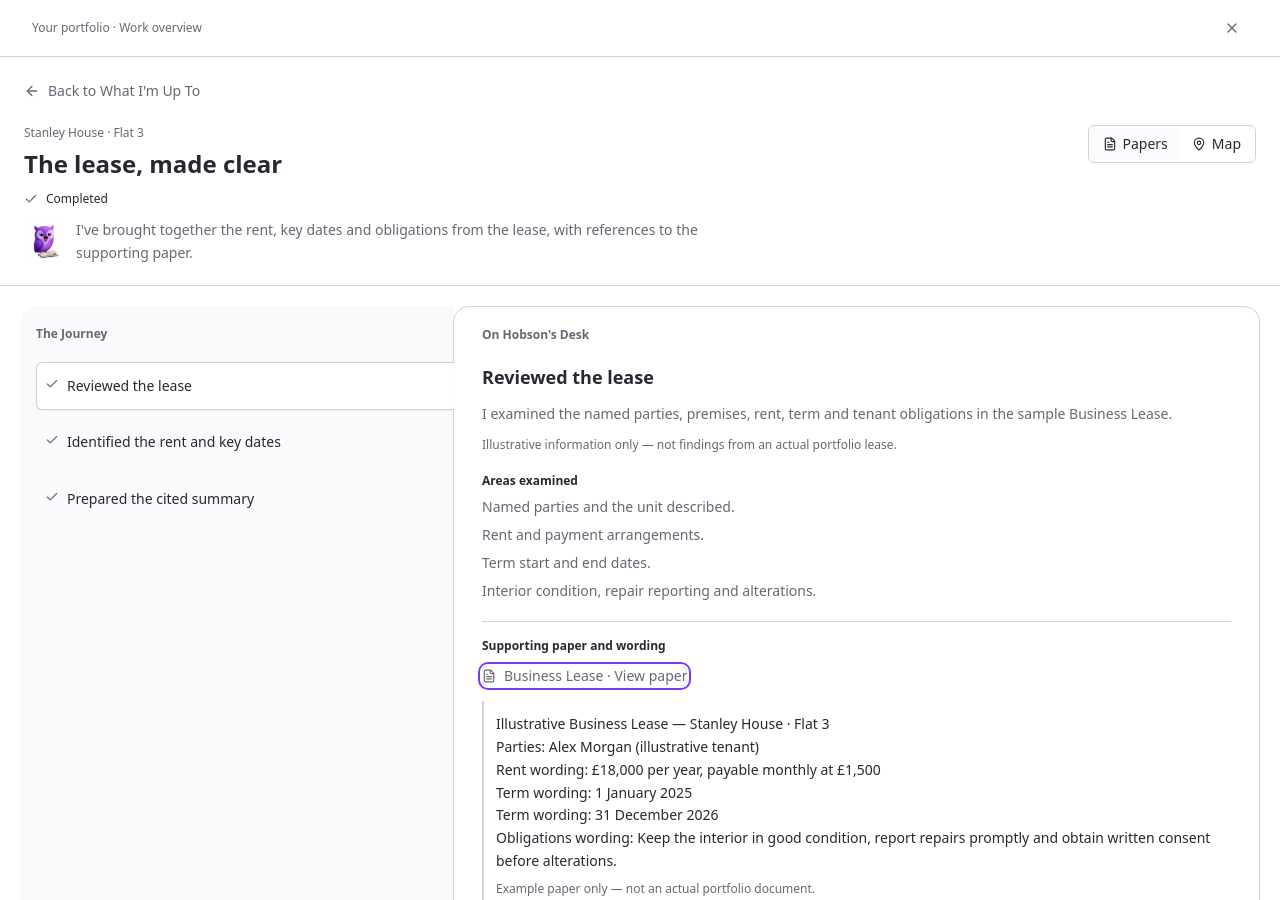
Test: Completed Flat 3 lease exploration › keeps the original three accomplishments and never starts or mutates work when explored
The image size is (1280, 900).
Earlier steps of the test are not shown.
Expected: the element named "Flat 3 Business Lease illustrative preview" is shown, [482, 701, 1231, 899]
Click the button "Identified the rent and key dates": (237, 443) [36, 418, 438, 467]
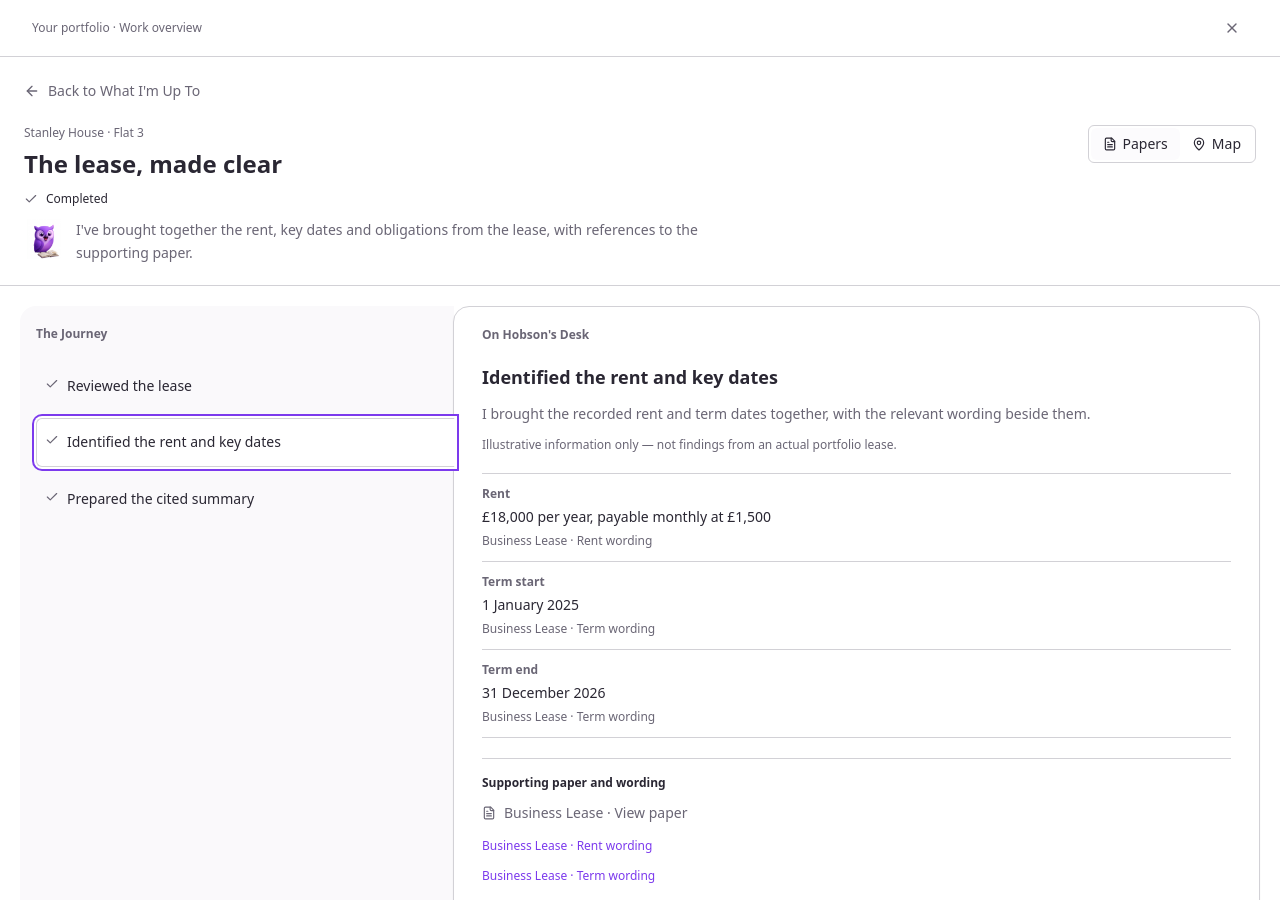
Click the button "Business Lease · Rent wording": (567, 846) [482, 838, 652, 854]
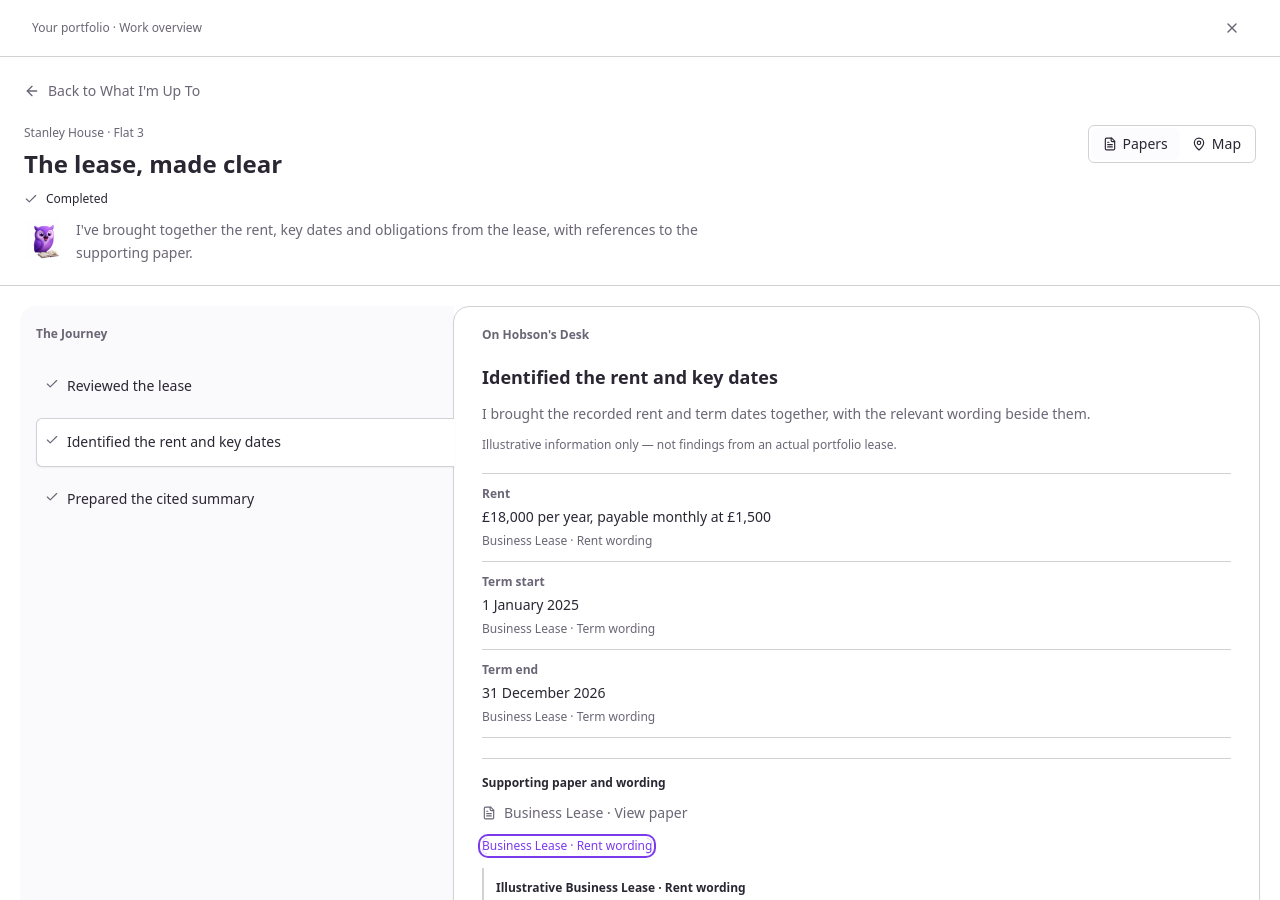
Click the button "Prepared the cited summary": (237, 499) [36, 475, 438, 524]
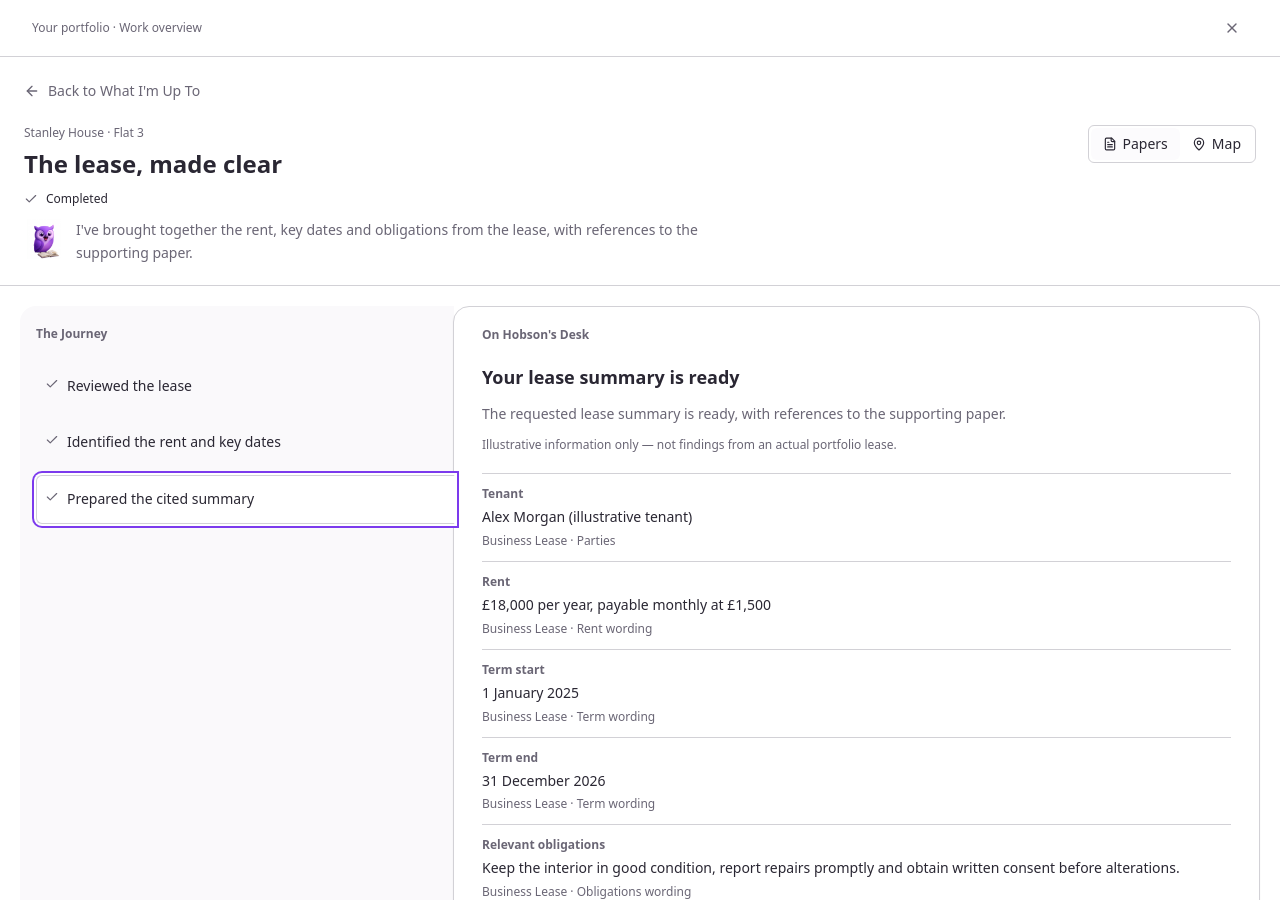
Click the button "Map": (1216, 144) [1180, 128, 1253, 160]
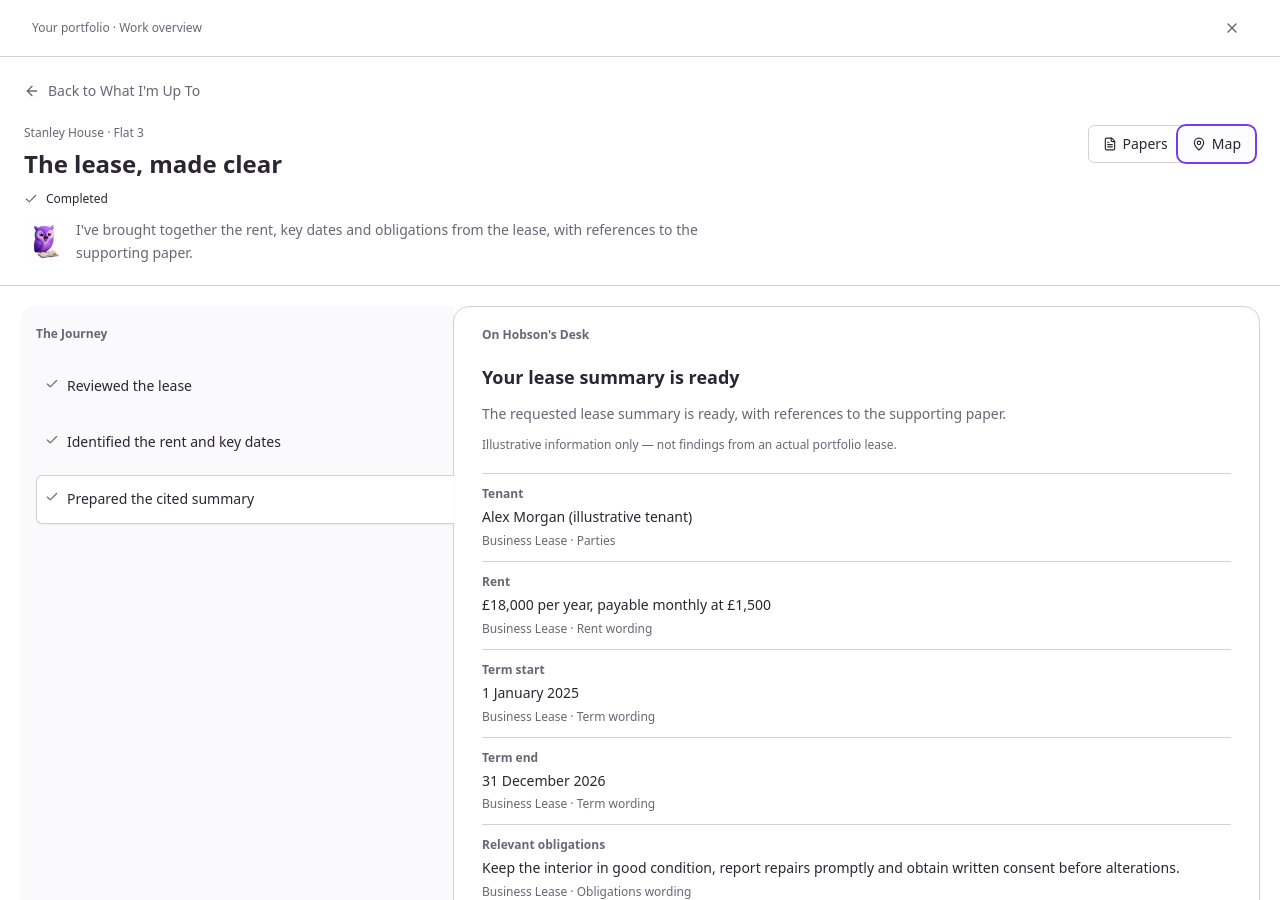
Now the element named "Stanley House · Flat 3 Papers / Map" is shown, box [1088, 125, 1256, 163]
Click the button "Back to What I'm Up To": (112, 91) [24, 73, 200, 109]
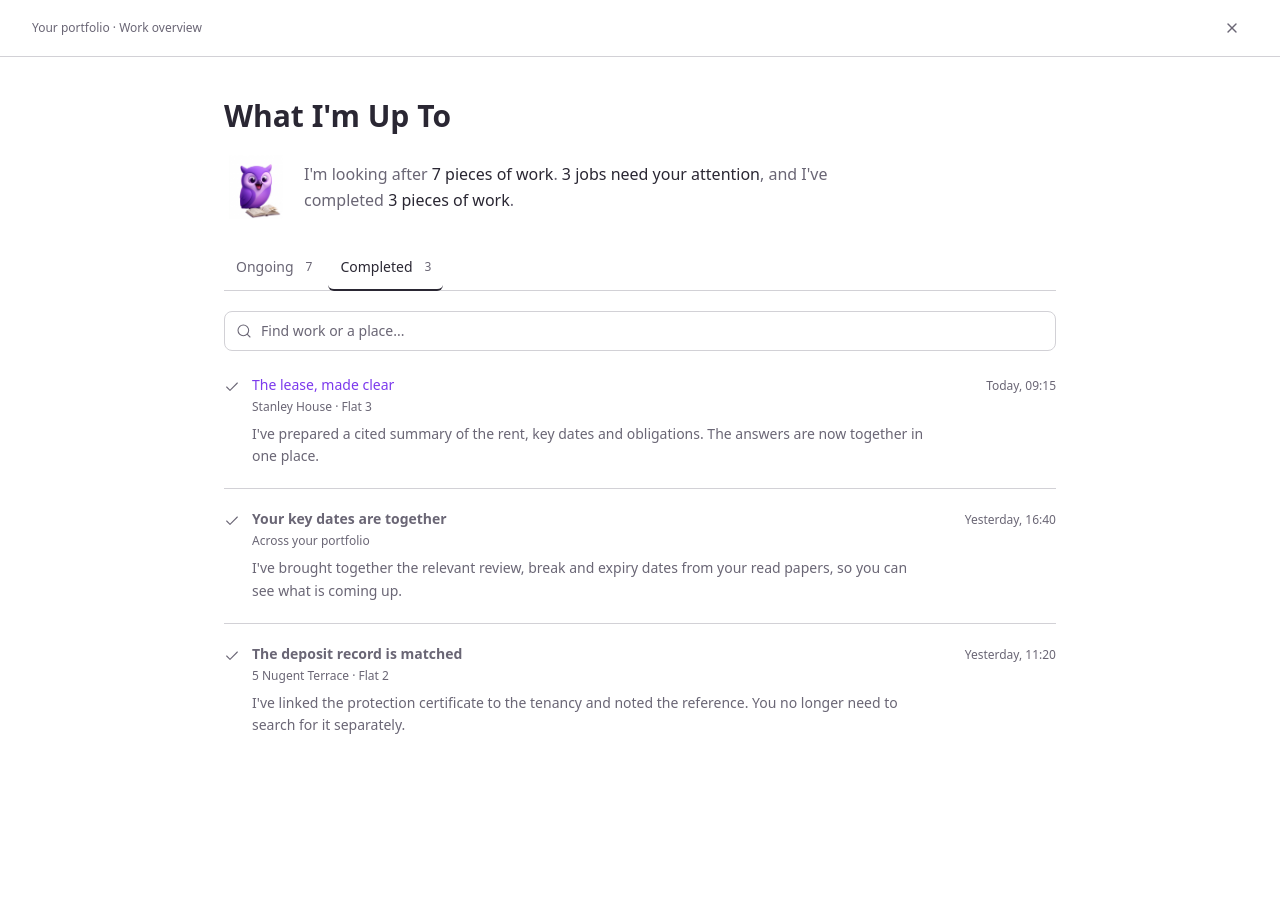
Click the tab "Ongoing 7": (274, 270) [224, 250, 324, 290]
(page scrolled)
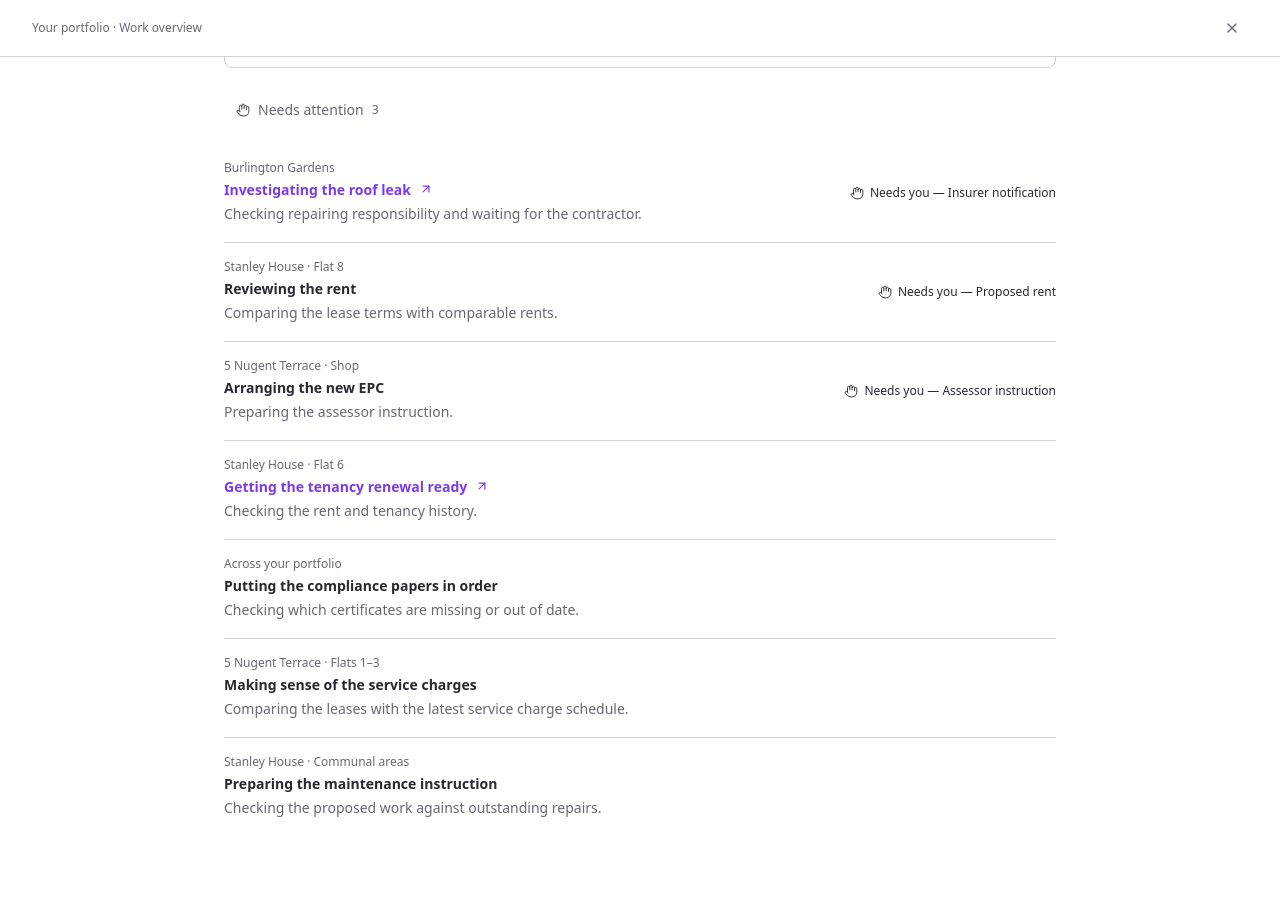
Now the element named "Ongoing" no longer shows "The lease, made clear", box [224, 144, 1056, 836]
